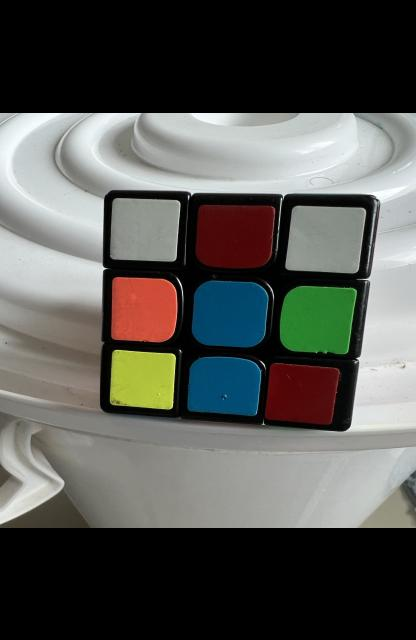Blue: (192, 280, 269, 346), (188, 356, 262, 415)
Green: (279, 284, 357, 354)
Orange: (110, 276, 178, 342)
Red: (196, 204, 276, 267), (266, 362, 339, 424)
White: (286, 204, 366, 272), (109, 198, 180, 260)
Yellow: (109, 348, 177, 409)
